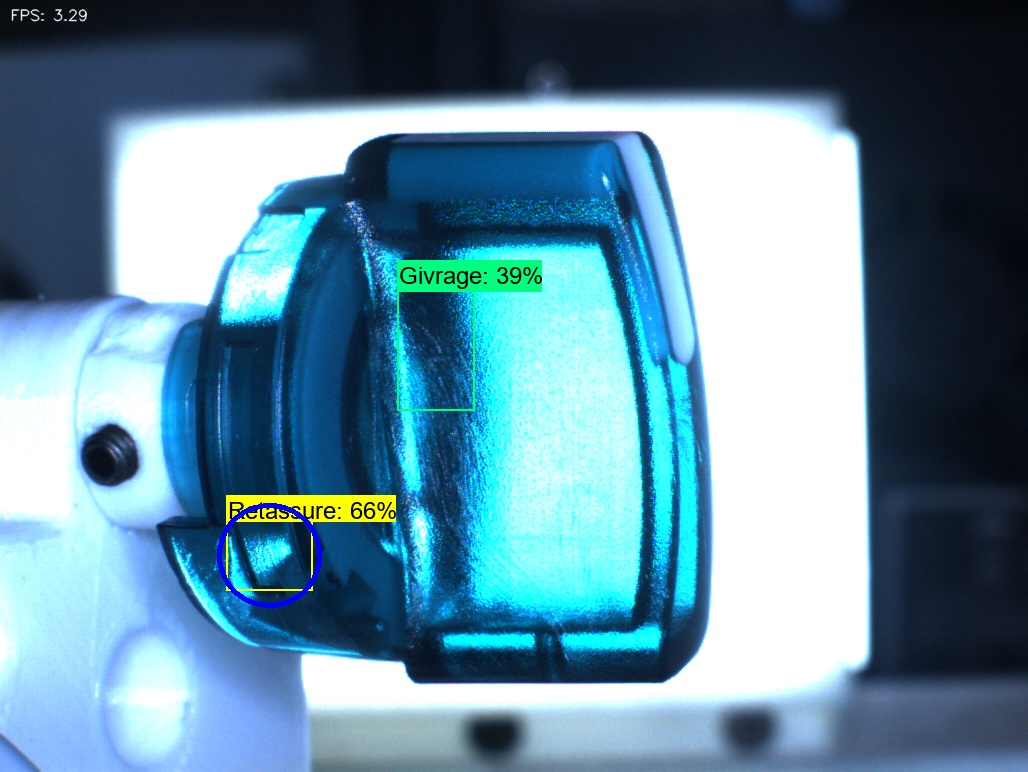Bulle: (513, 602, 601, 688)
